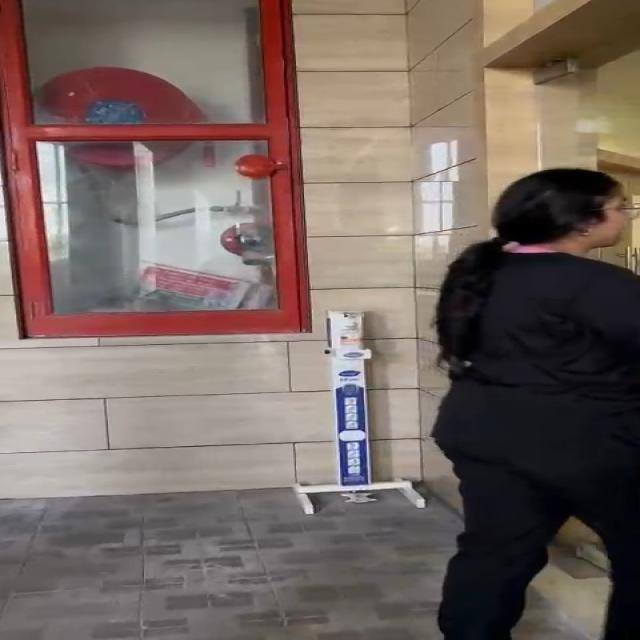door: (17, 0, 326, 378), (491, 5, 640, 148)
floor: (0, 487, 408, 640)
moving_object: (422, 163, 640, 628)
